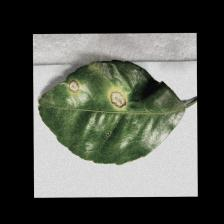greening: (64, 75, 132, 112)
